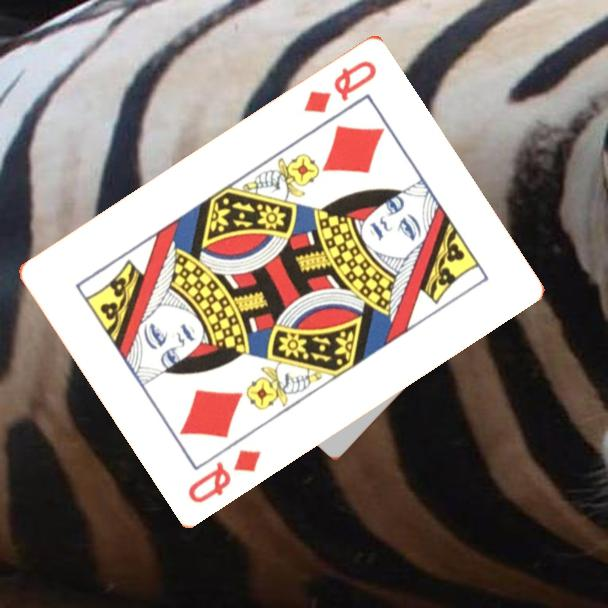d12: (184, 445, 265, 506), (299, 56, 380, 116)
